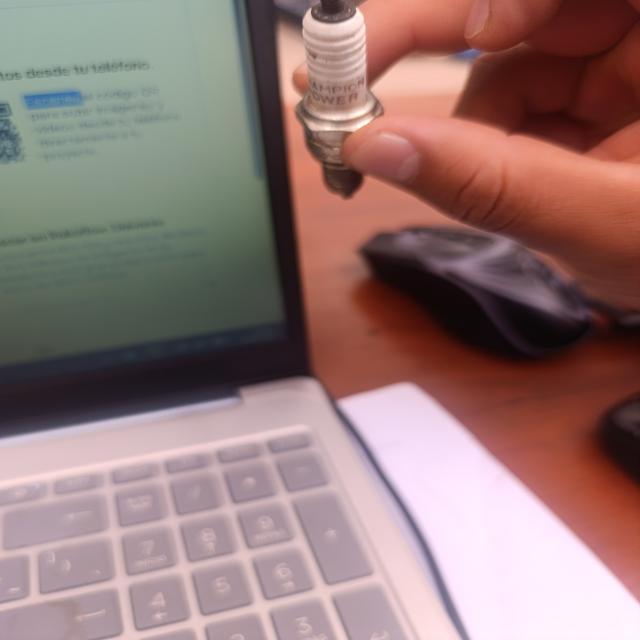bujia: (295, 0, 383, 197)
